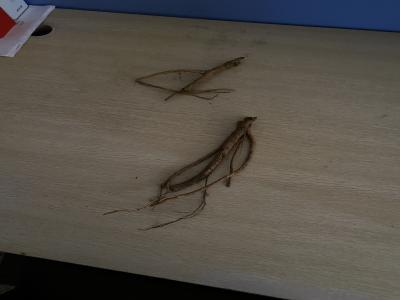Root: (167, 117, 257, 192), (183, 57, 244, 92)
